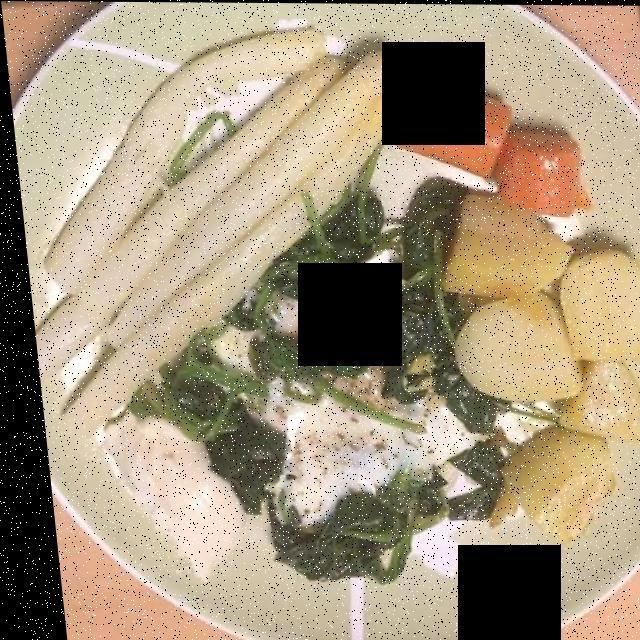asparagus: (32, 31, 434, 443)
carrot: (364, 52, 588, 219)
mayonnaise: (102, 404, 248, 575)
potatoes: (432, 198, 639, 549)
spinach: (154, 145, 511, 578)
